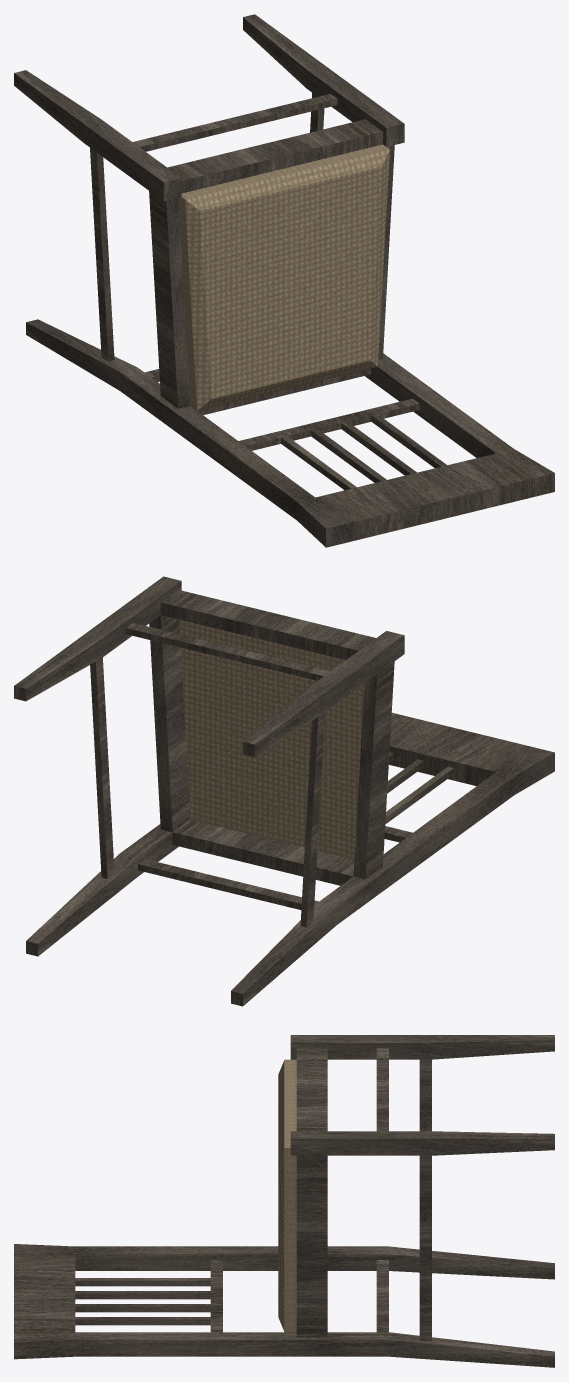
Rendered from chair212_wtf.obj.
3 views of the same model, one above another, from view 1: azimuth 30°, elevation 25°; view 2: azimuth 150°, elevation 25°; view 3: azimuth 270°, elevation 25° (orthographic). The views are drawn at different scales.
Parts seen in each view (by area): view 1: group3, group4; view 2: group3, group4; view 3: group3, group4.
Part boxes in pixels (x1,y1,x2,y2): group3: (14, 14, 554, 547); group4: (178, 144, 389, 410); group3: (14, 576, 554, 1006); group4: (179, 619, 364, 859); group3: (14, 1035, 554, 1367); group4: (278, 1059, 296, 1332).
Bounding box in the file's own units: 300 × 315 × 660.
